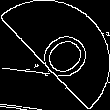O_SW: (21, 22, 89, 88)
